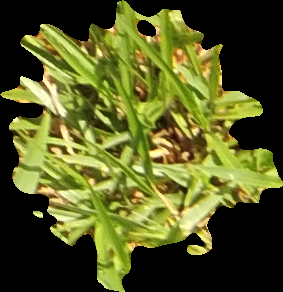grass: (1, 1, 281, 290)
